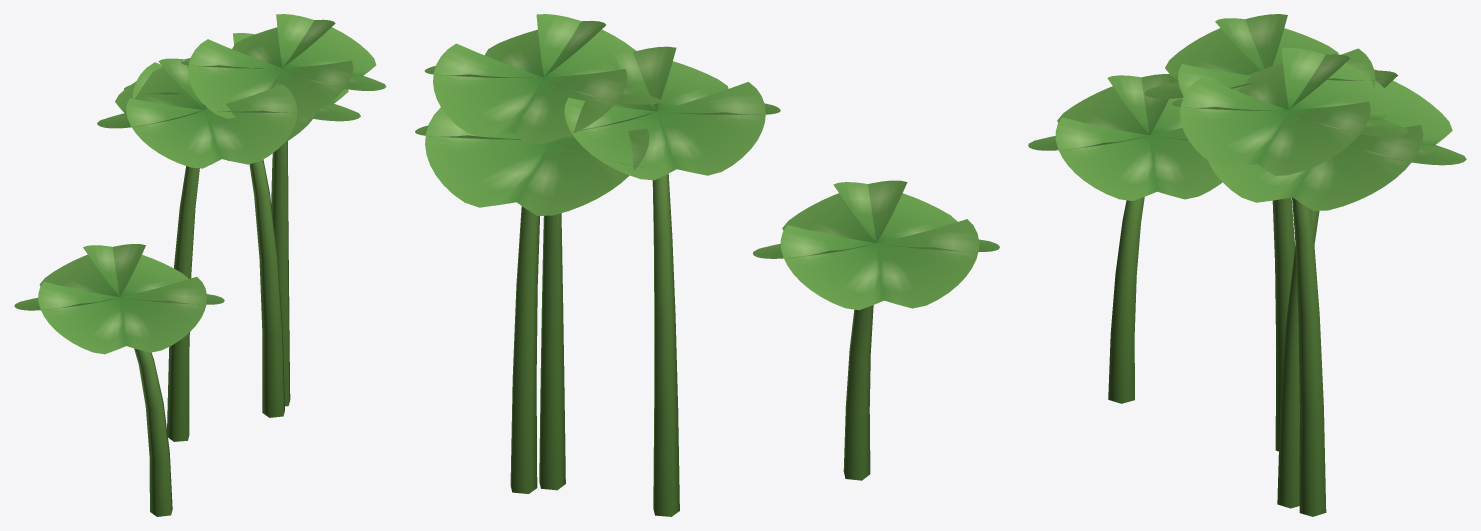
The model's file is Clover_A.fbx.
3 views of the same model, side by side, from view 1: azimuth 30°, elevation 25°; view 2: azimuth 150°, elevation 25°; view 3: azimuth 270°, elevation 25° (orthographic). The views are drawn at different scales.
Visible parts, largest first — view 1: Clover_A; view 2: Clover_A; view 3: Clover_A.
Part boxes in pixels (x1,y1,x2,y2): Clover_A: [14, 14, 386, 516]; Clover_A: [415, 14, 999, 516]; Clover_A: [1028, 14, 1466, 516].
Size of the model in its own units: 1.9 by 1.65 by 1.56.
